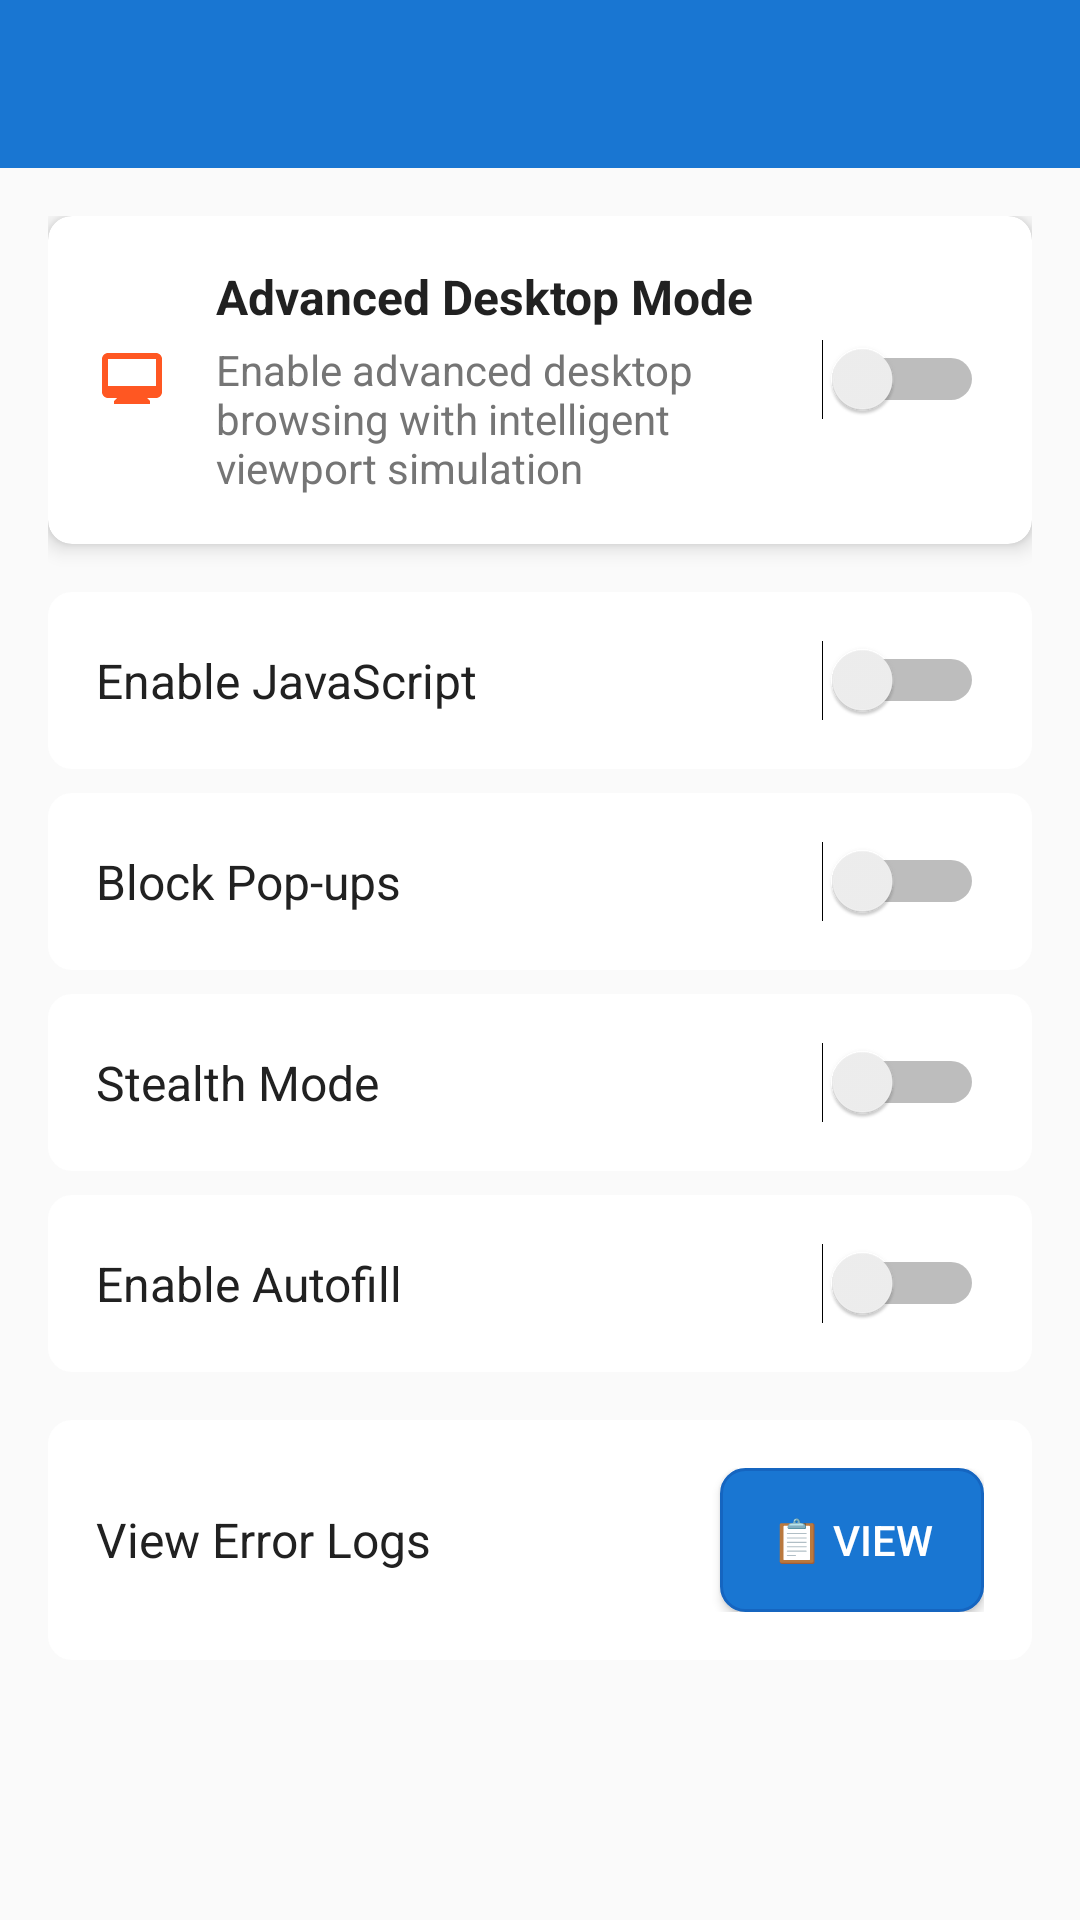

Icons on this 1080 x 1920 Android screen, each with the point to tap as [x,y]:
desktop browser: [132,378]
